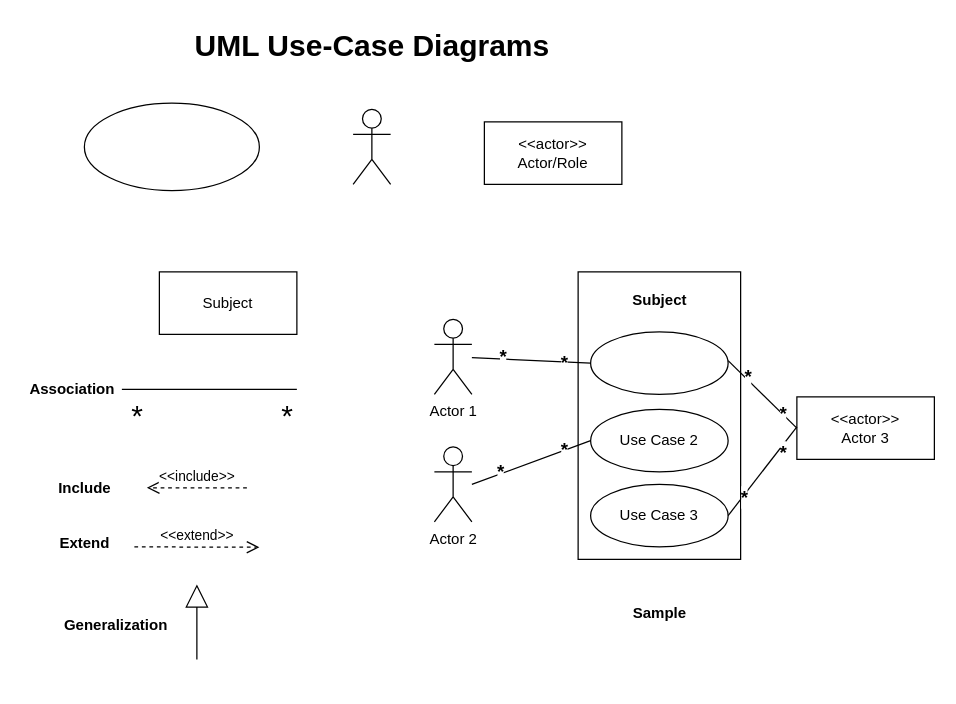
The diagram is 956 pixels wide and 704 high, and some of its shapes have lost their labels. Each missing label, with the centre of its shape:
"Actor" goes at (371,146).
"Use Case" goes at (171,146).
"Use Case 1" goes at (658,362).
